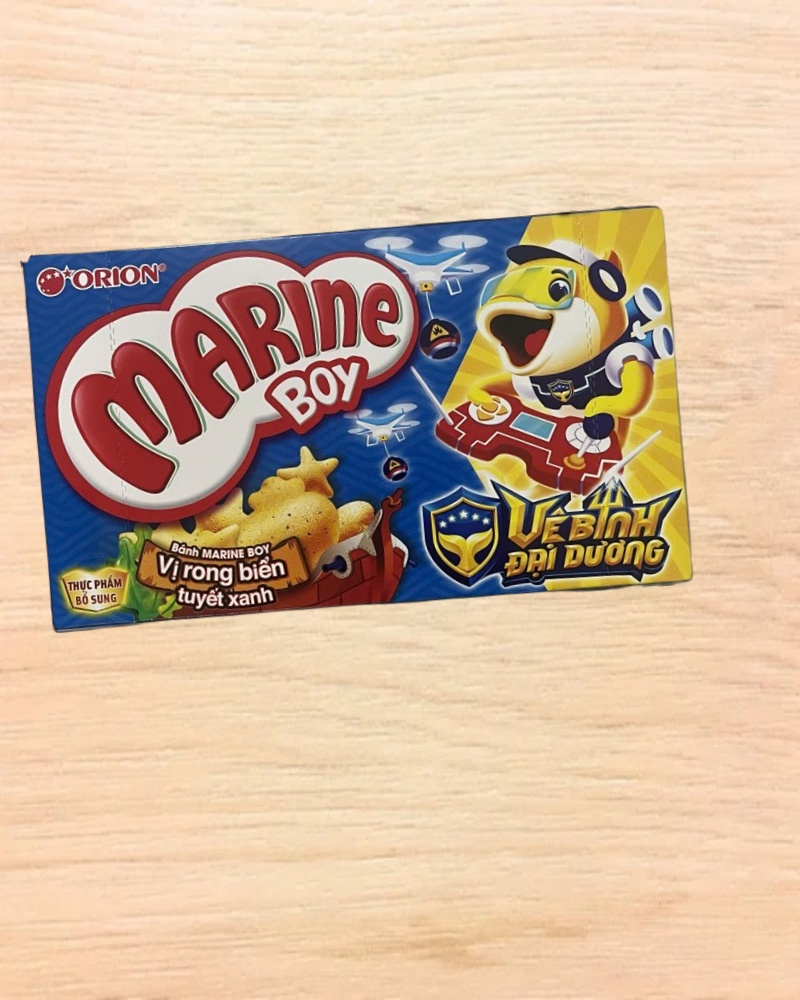Marine: (23, 201, 697, 638)
